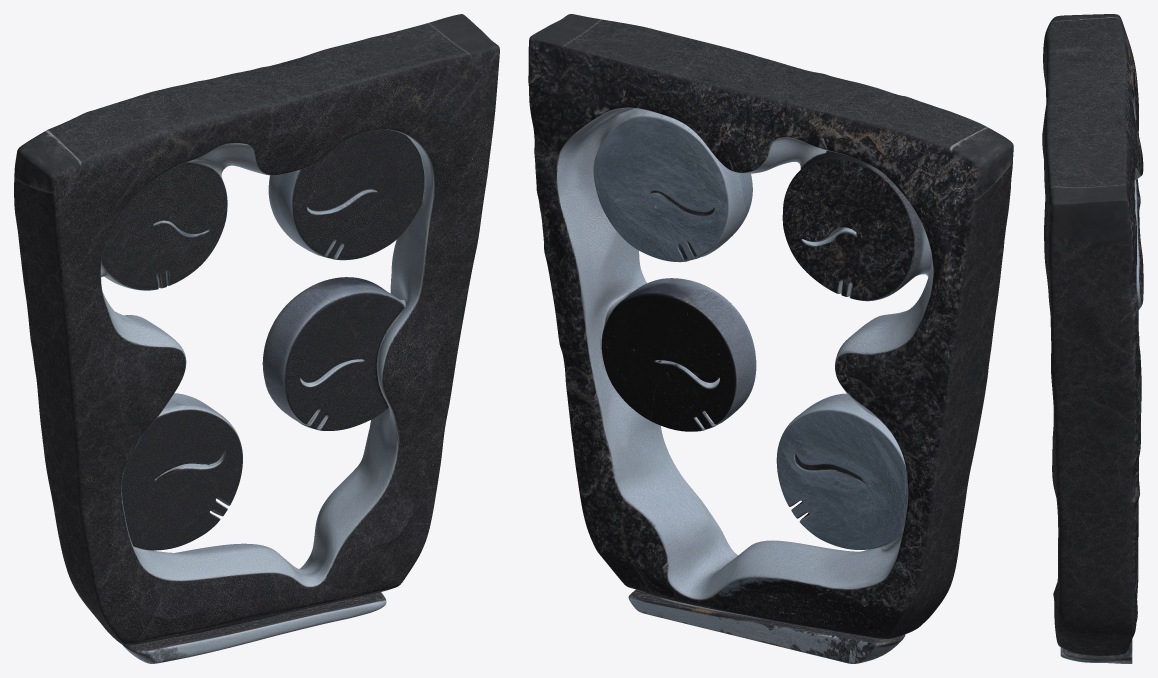
File: belonging-uploaded-v1.glb
3 views of the same model, side by side, from view 1: azimuth 30°, elevation 25°; view 2: azimuth 150°, elevation 25°; view 3: azimuth 270°, elevation 25° (orthographic). The views are drawn at different scales.
Size of the model in its own units: 1.64 by 1.9 by 0.3385.
1 material, 1 textured.
